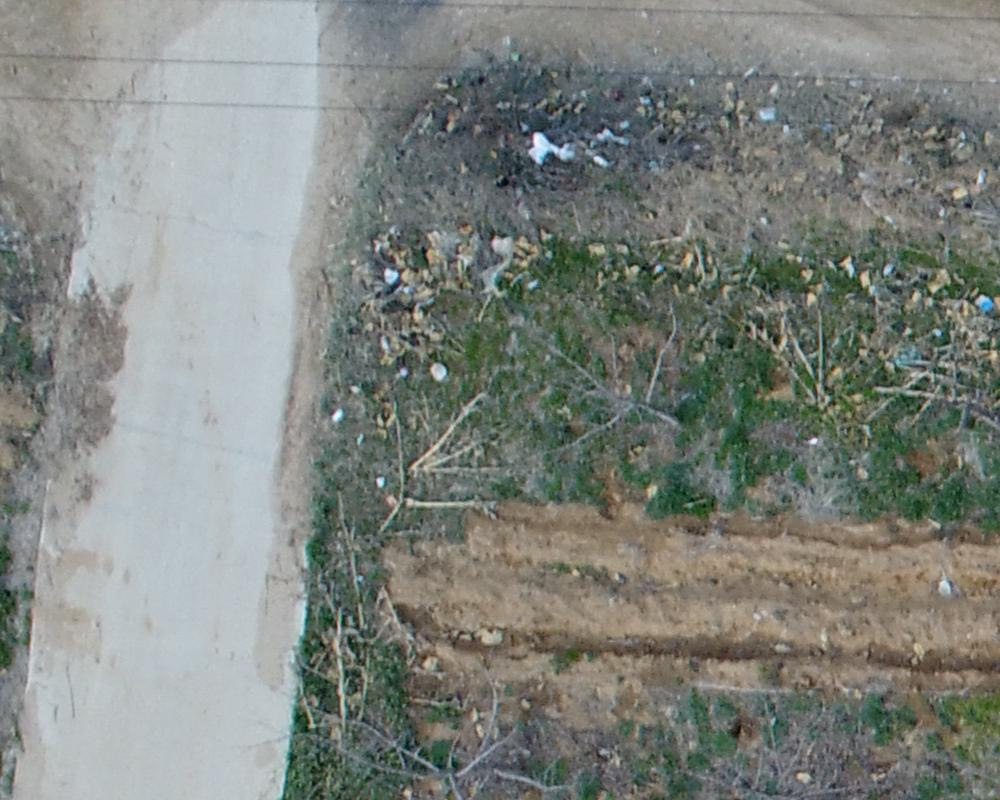apple: (512, 298, 721, 469), (313, 674, 577, 790), (657, 700, 890, 790), (877, 314, 990, 489)
